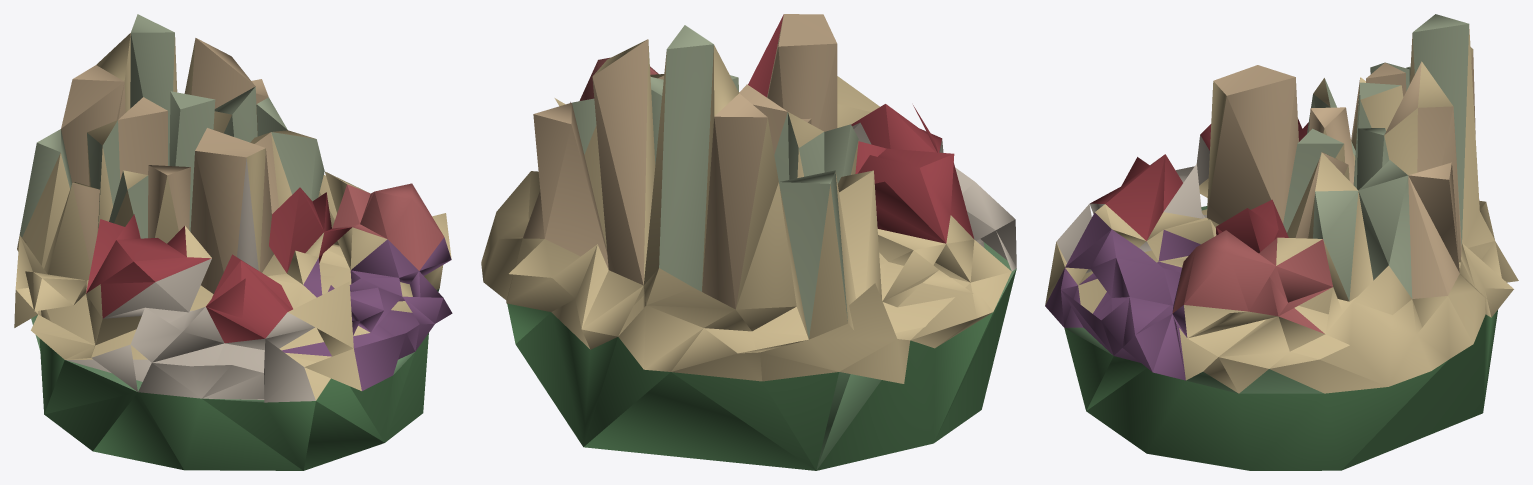
File: rose_candles_01.low.glb
3 renders of one model, left to right at view 1: azimuth 30°, elevation 25°; view 2: azimuth 150°, elevation 25°; view 3: azimuth 270°, elevation 25°, orthographic. The views are drawn at different scales.
Bounding box in the file's own units: 2.2 × 1.83 × 2.2.
